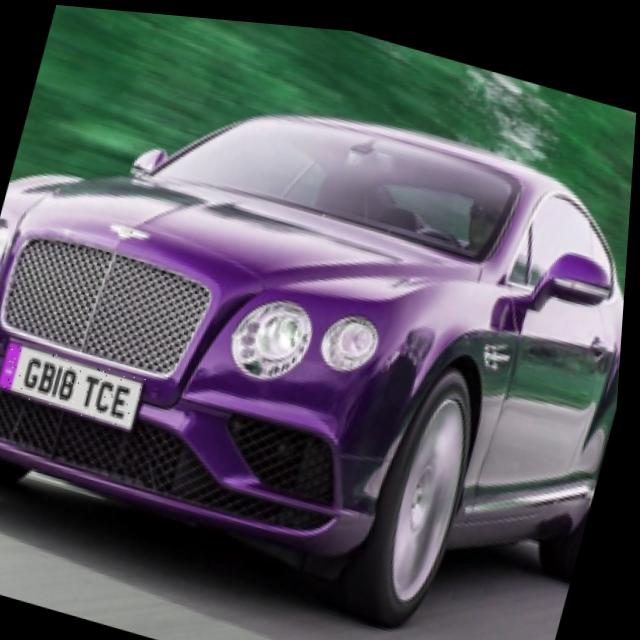license_plate: (2, 339, 153, 428)
